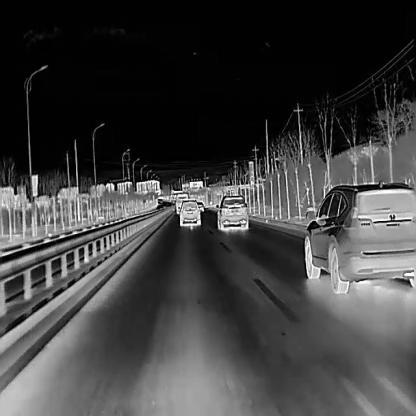car: (303, 179, 415, 293), (215, 193, 249, 229), (177, 197, 200, 225), (175, 191, 188, 212), (197, 200, 204, 211)
